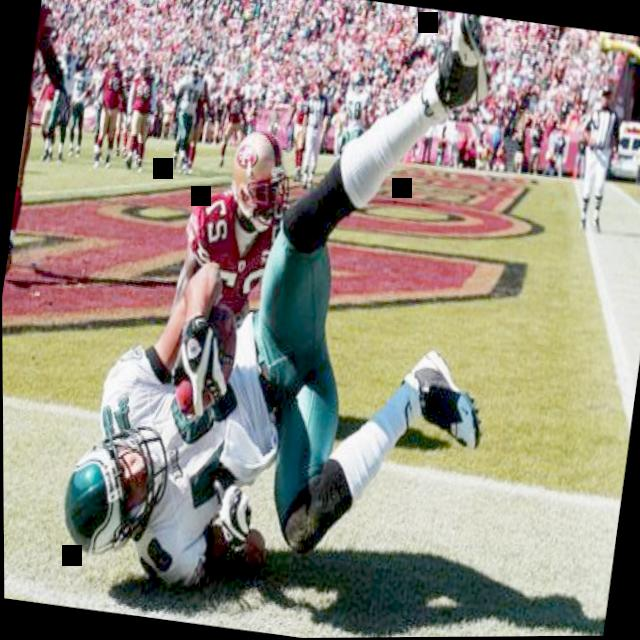Fall-Detected: (104, 0, 552, 639)
